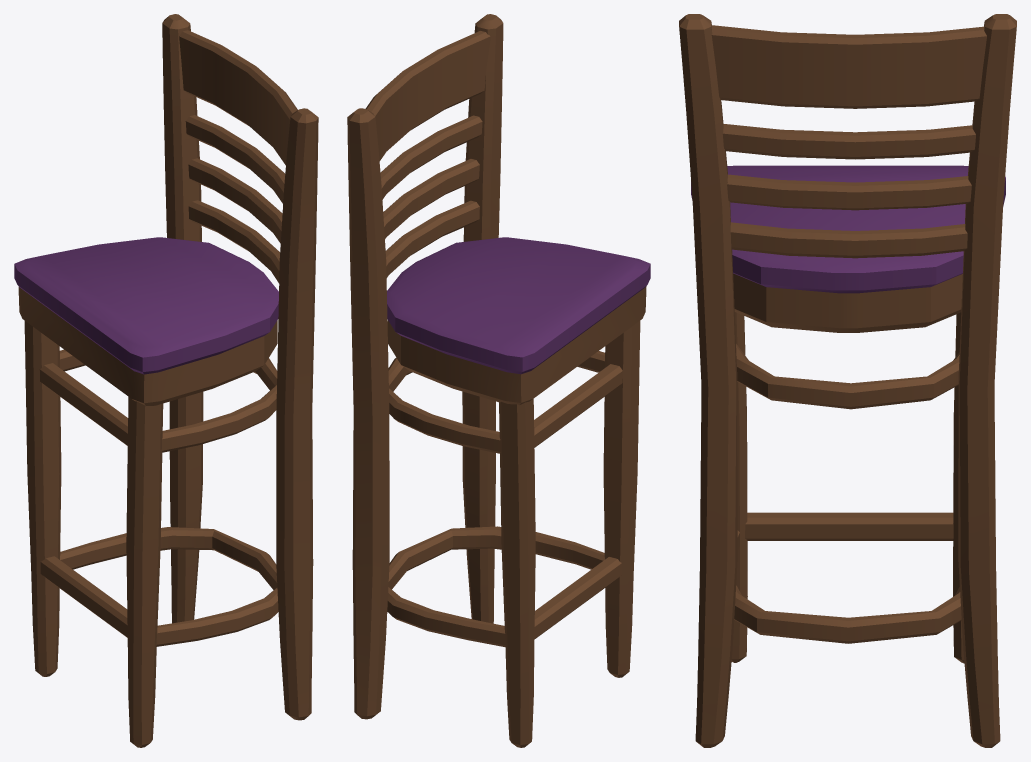
File: ME_SE_Stool.fbx
The picture shows the model from 3 angles, left to right: view 1: azimuth 30°, elevation 25°; view 2: azimuth 150°, elevation 25°; view 3: azimuth 270°, elevation 25°; orthographic projection. The views are drawn at different scales.
Parts seen in each view (by area): view 1: ME_SE_Stool; view 2: ME_SE_Stool; view 3: ME_SE_Stool.
Boxes of the visible parts, bbox=[...] form: ME_SE_Stool: bbox=[14, 14, 318, 747]; ME_SE_Stool: bbox=[347, 14, 650, 747]; ME_SE_Stool: bbox=[679, 14, 1016, 747].
Bounding box in the file's own units: 4627 × 13810 × 5801.
